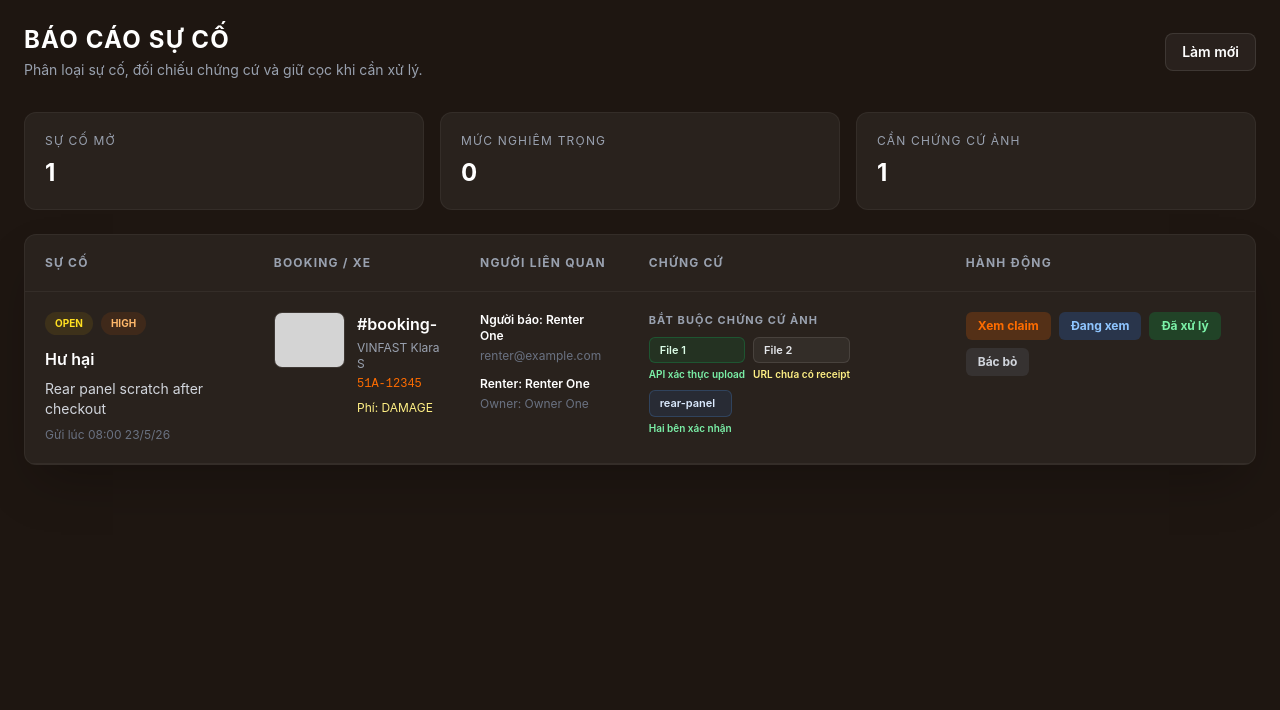
Test case: IncidentReportsQueue › opens the unified booking claim summary from an incident row
Click the button "Xem claim". click: {"x": 1008, "y": 326}
box: x1=966 y1=312 x2=1051 y2=340
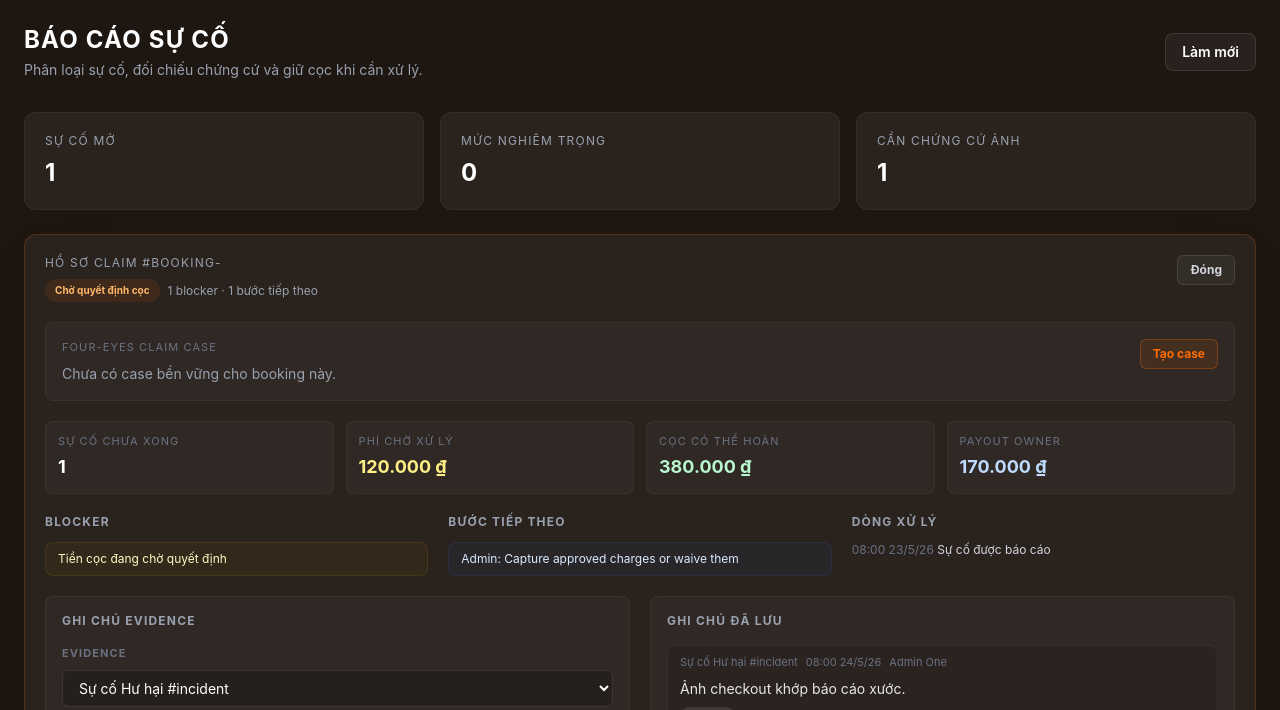
Expected: the text "Hồ sơ claim #booking-" is shown, x1=45 y1=255 x2=222 y2=270
Expected: the text "Chờ quyết định cọc" is shown, x1=45 y1=279 x2=160 y2=302
Expected: the text "Tiền cọc đang chờ quyết định" is shown, x1=45 y1=542 x2=428 y2=576
